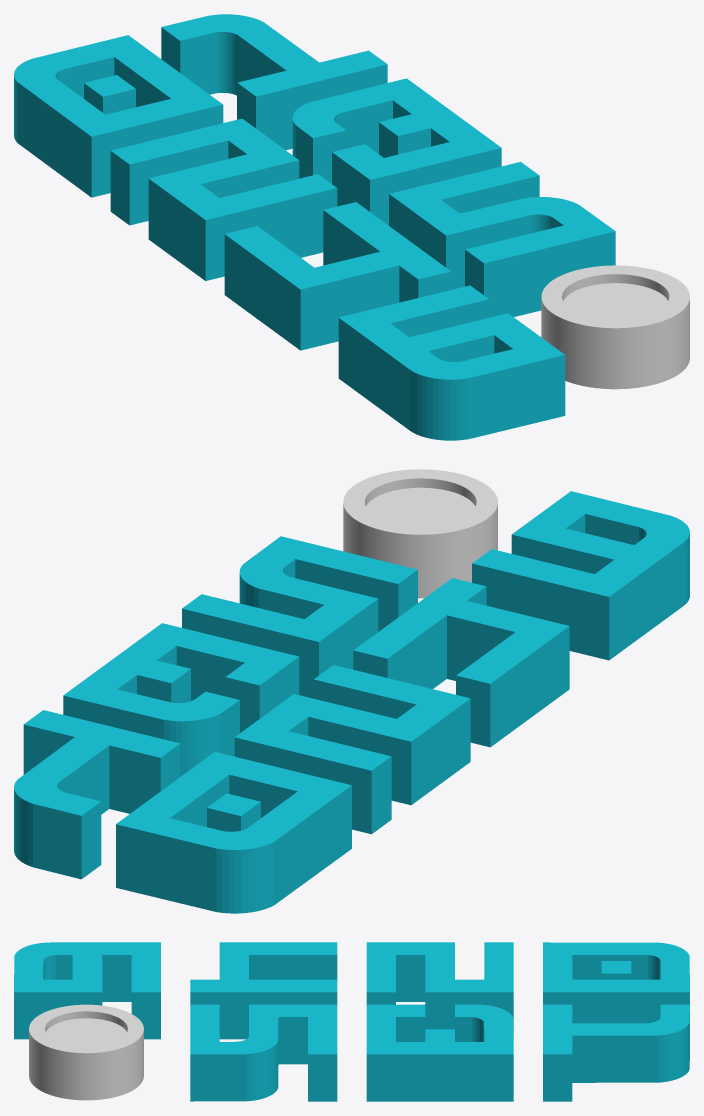
File: levelSelect.dae
The picture shows the model from 3 angles, top to bottom: view 1: azimuth 30°, elevation 25°; view 2: azimuth 150°, elevation 25°; view 3: azimuth 270°, elevation 25°; orthographic projection. The views are drawn at different scales.
Visible parts, largest first — view 1: level6, level2, level5, level0, level4, level3, bonus, level1; view 2: level0, level6, level2, level3, level4, level5, level1, bonus; view 3: level3, level5, level0, level6, level1, bonus, level4, level2.
Boxes of the visible parts, bbox=[...] form: level6: bbox=[338, 285, 565, 440]; level2: bbox=[110, 118, 337, 280]; level5: bbox=[389, 162, 615, 317]; level0: bbox=[14, 35, 223, 197]; level4: bbox=[224, 202, 451, 350]; level3: bbox=[292, 78, 501, 225]; bonus: bbox=[541, 265, 689, 389]; level1: bbox=[161, 14, 387, 150]; level0: bbox=[116, 752, 351, 913]; level6: bbox=[472, 491, 689, 660]; level2: bbox=[234, 665, 470, 834]; level3: bbox=[63, 623, 299, 776]; level4: bbox=[353, 578, 569, 747]; level5: bbox=[182, 536, 417, 698]; level1: bbox=[14, 710, 180, 879]; bonus: bbox=[343, 469, 497, 598]; level3: bbox=[366, 1004, 513, 1101]; level5: bbox=[190, 1004, 337, 1101]; level0: bbox=[543, 942, 689, 1023]; level6: bbox=[14, 942, 160, 1039]; level1: bbox=[543, 1004, 689, 1101]; bonus: bbox=[29, 1004, 143, 1100]; level4: bbox=[190, 942, 337, 1039]; level2: bbox=[366, 942, 513, 1037].
Bounding box in the file's own units: 10.16 × 25.96 × 2.
